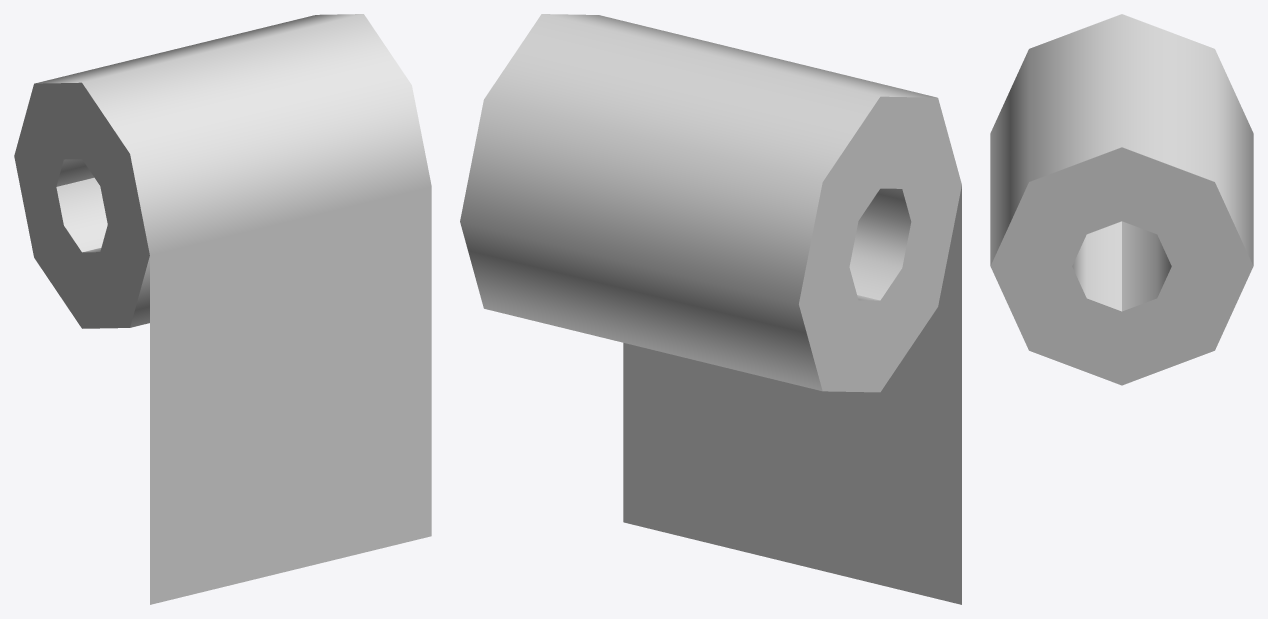
Rendered from Itr_Obj_Toiletpaper_Paper_01.FBX.
3 views of the same model, side by side, from view 1: azimuth 30°, elevation 25°; view 2: azimuth 150°, elevation 25°; view 3: azimuth 270°, elevation 25° (orthographic). The views are drawn at different scales.
Visible parts, largest first — view 1: Itr_Obj_Toiletpaper_Paper_01; view 2: Itr_Obj_Toiletpaper_Paper_01; view 3: Itr_Obj_Toiletpaper_Paper_01.
Part boxes in pixels (x1=…): Itr_Obj_Toiletpaper_Paper_01: x1=14, y1=14, x2=431, y2=604; Itr_Obj_Toiletpaper_Paper_01: x1=460, y1=14, x2=961, y2=604; Itr_Obj_Toiletpaper_Paper_01: x1=990, y1=14, x2=1253, y2=385.
Size of the model in its own units: 8.24 by 13.2 by 6.87.
